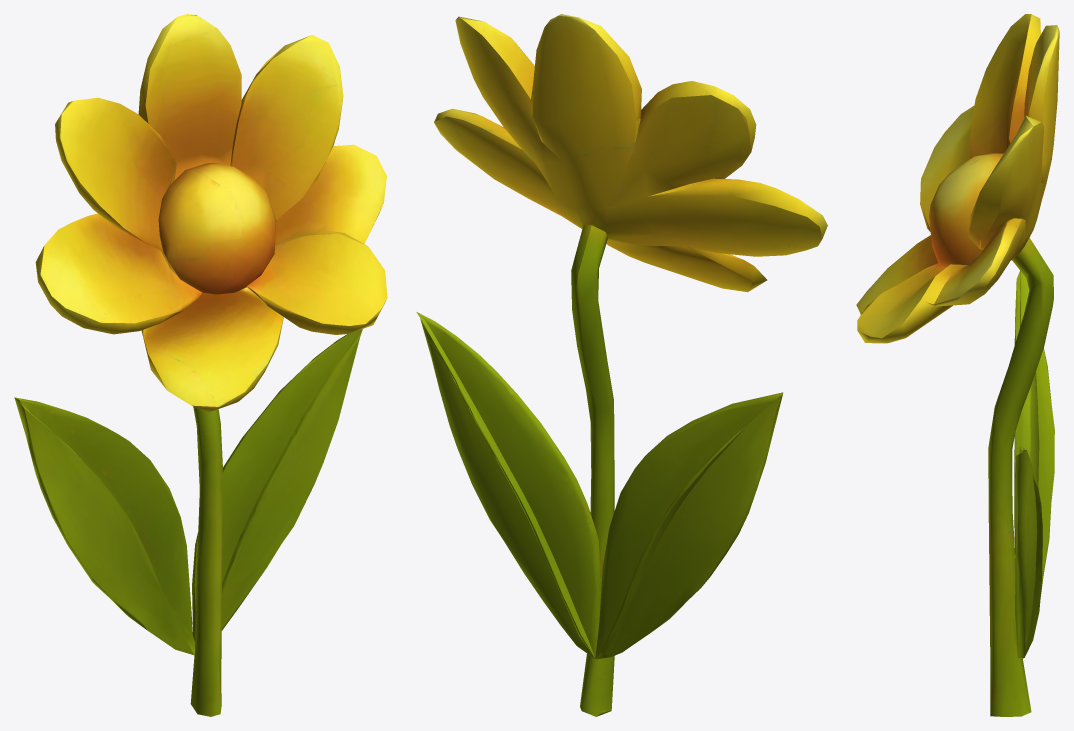
The model's file is flowerA.glb.
3 renders of one model, left to right at view 1: azimuth 30°, elevation 25°; view 2: azimuth 150°, elevation 25°; view 3: azimuth 270°, elevation 25°, orthographic. The views are drawn at different scales.
Visible parts, largest first — view 1: model; view 2: model; view 3: model.
Part boxes in pixels (x1,y1,x2,y2): model: [14, 14, 387, 716]; model: [416, 14, 827, 716]; model: [856, 14, 1059, 716].
Bounding box in the file's own units: 1.05 × 1.91 × 0.5107.
Materials: 1 (1 with a texture image).
